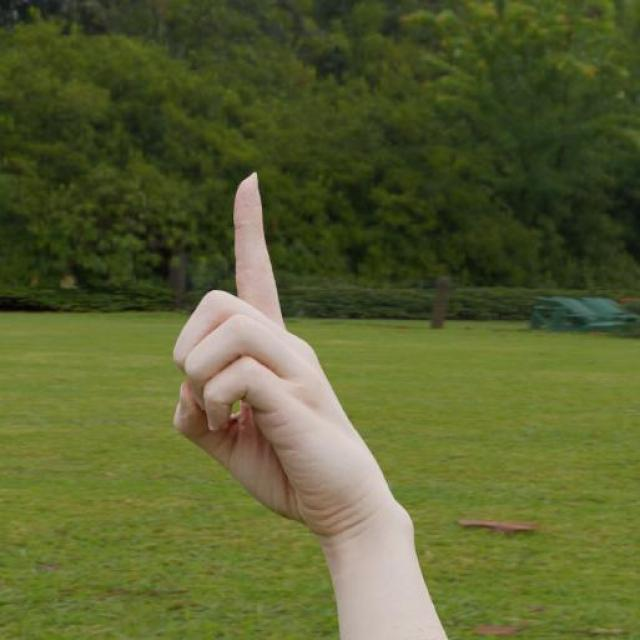D: (168, 170, 414, 531)
